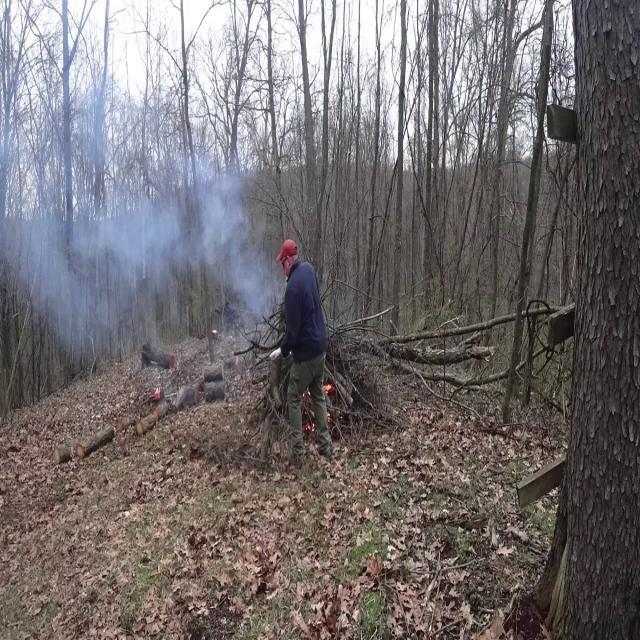Smoke: (2, 132, 270, 340)
